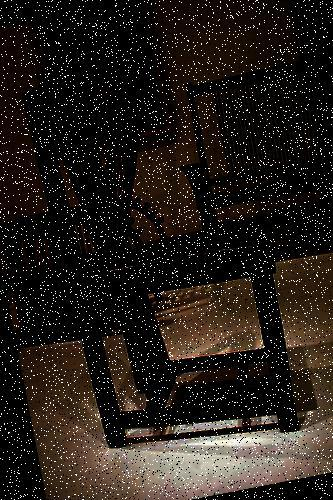Silla: (21, 41, 306, 468)
